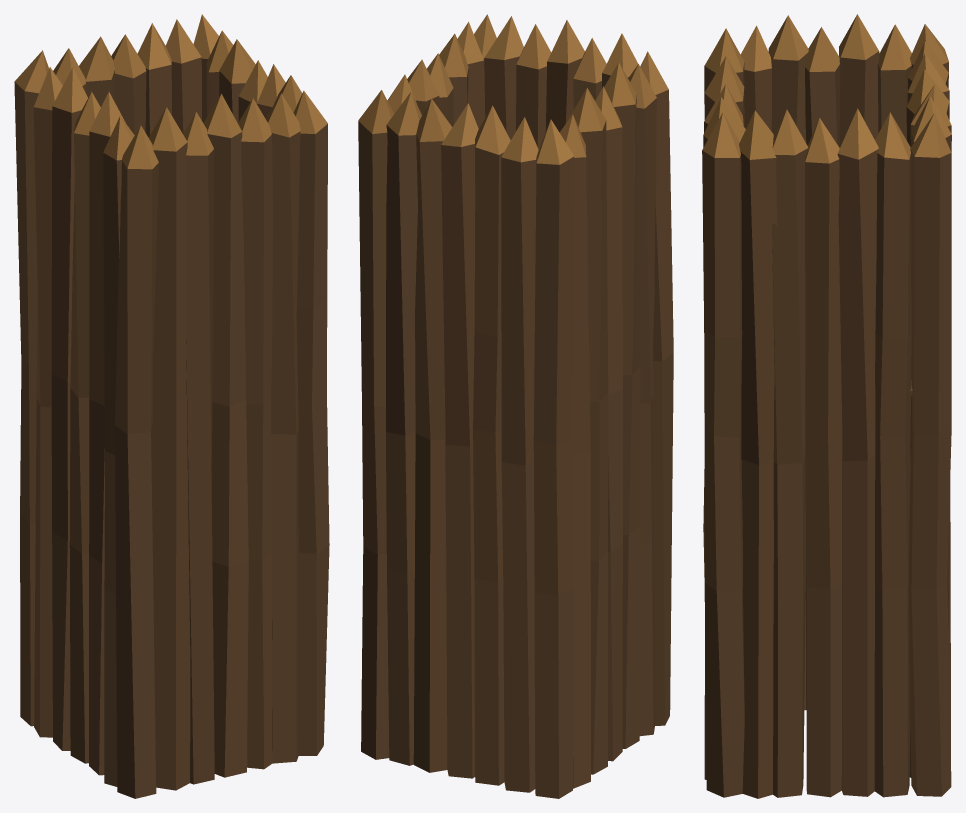
The model's file is tower-medieval-wood.glb.
3 renders of one model, left to right at view 1: azimuth 30°, elevation 25°; view 2: azimuth 150°, elevation 25°; view 3: azimuth 270°, elevation 25°, orthographic. The views are drawn at different scales.
Parts seen in each view (by area): view 1: tower-medieval_wood; view 2: tower-medieval_wood; view 3: tower-medieval_wood.
Boxes of the visible parts, x1=… form: tower-medieval_wood: x1=14, y1=14, x2=329, y2=798; tower-medieval_wood: x1=358, y1=14, x2=673, y2=798; tower-medieval_wood: x1=702, y1=14, x2=951, y2=798.
Bounding box in the file's own units: 2.1 × 6.5 × 2.13.
Materials: 1 (1 with a texture image).
